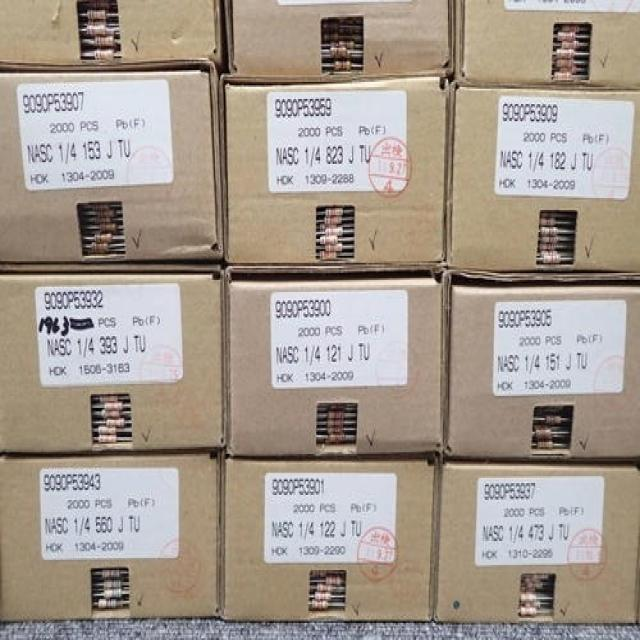box: (0, 58, 223, 263), (218, 73, 453, 263), (224, 266, 447, 459), (0, 263, 223, 452), (0, 449, 221, 623), (447, 84, 640, 276), (444, 270, 640, 459), (223, 457, 442, 621), (431, 459, 640, 623), (220, 0, 456, 75), (454, 0, 640, 92)
